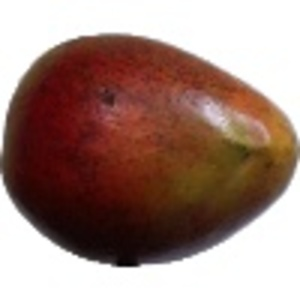manga: (1, 33, 300, 266)
